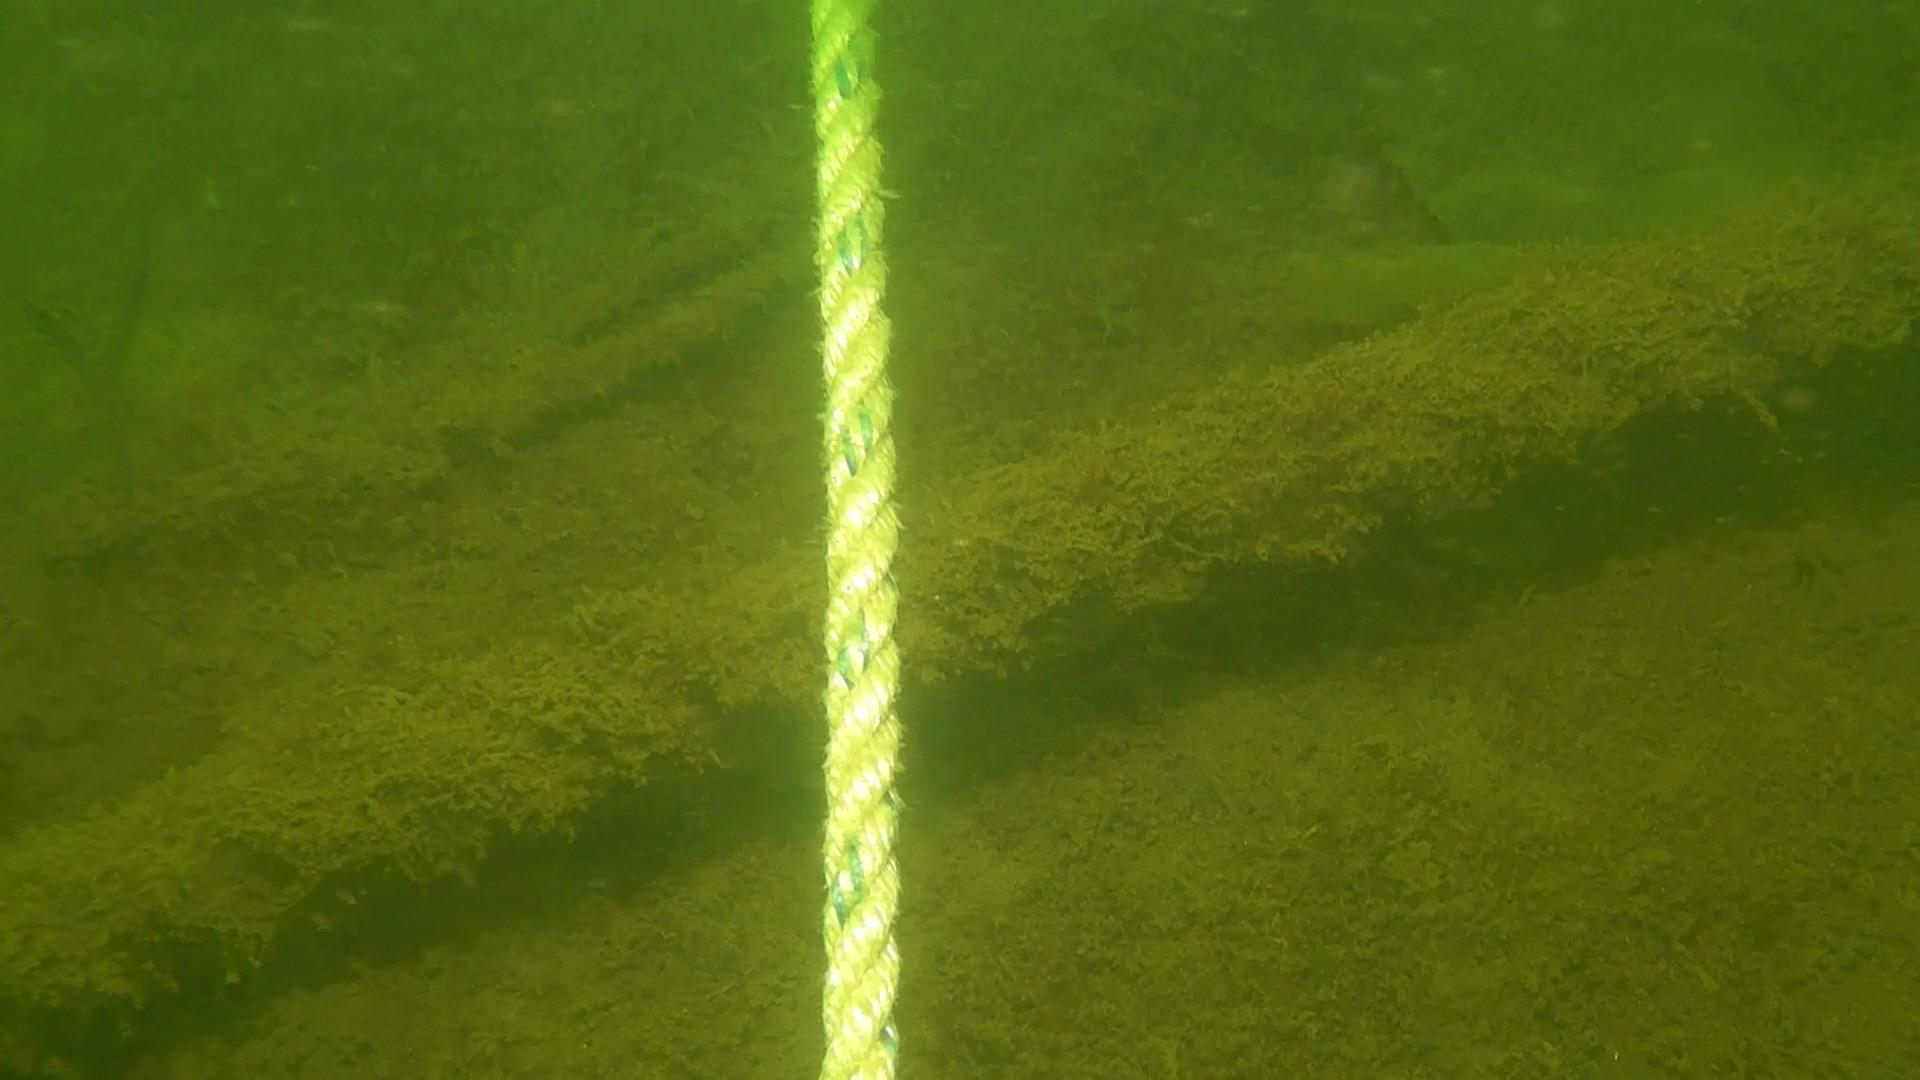rope: (808, 0, 905, 1080)
